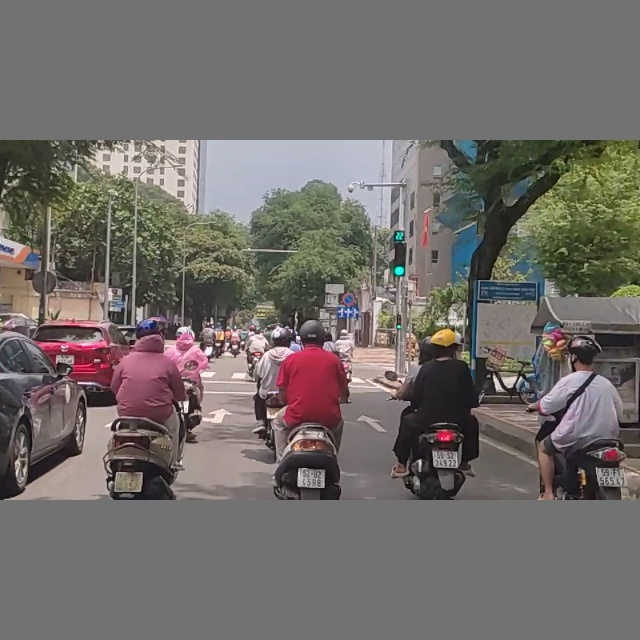P.131a: (341, 293, 357, 308)
